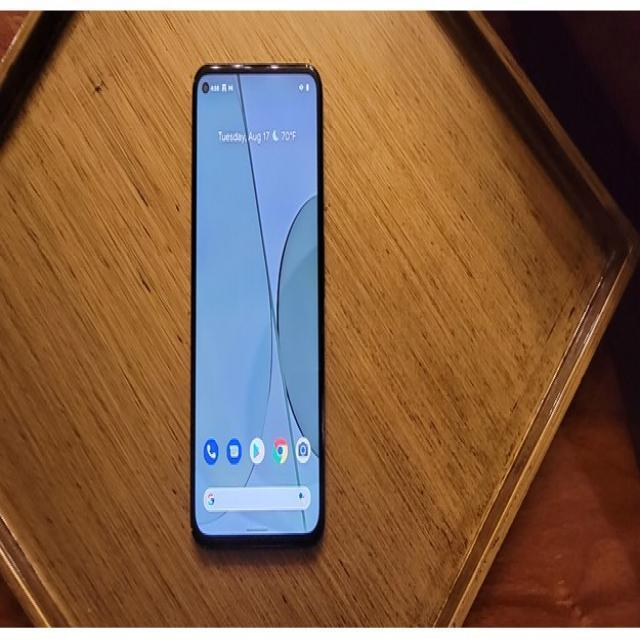Phone: (186, 59, 332, 559)
